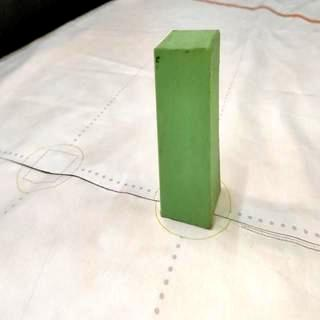greenbox: (154, 29, 224, 229)
